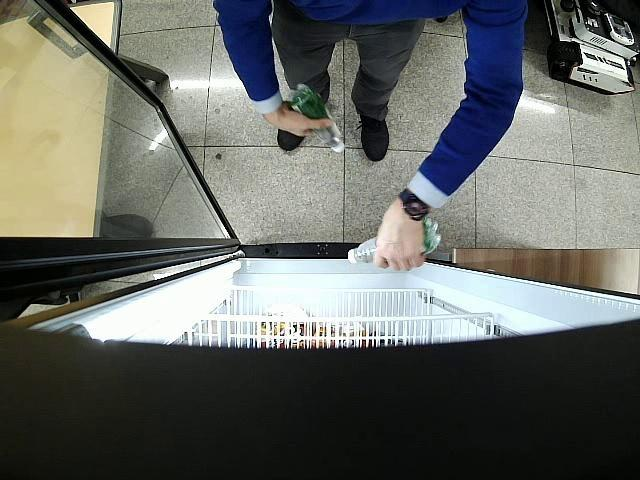18_trevi: (348, 217, 442, 265), (287, 82, 344, 152)
